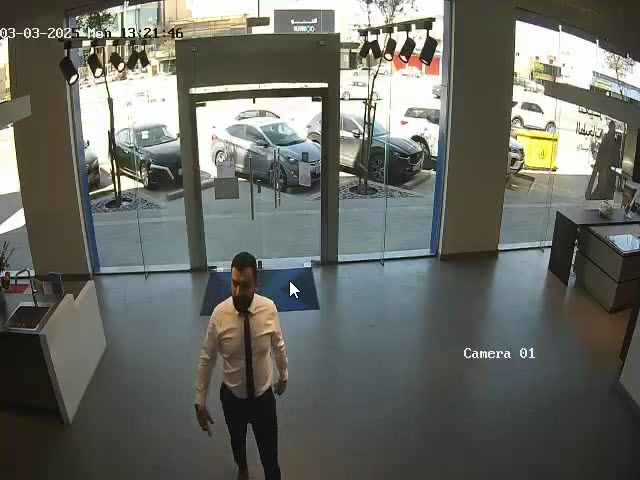employee: (193, 251, 289, 480)
